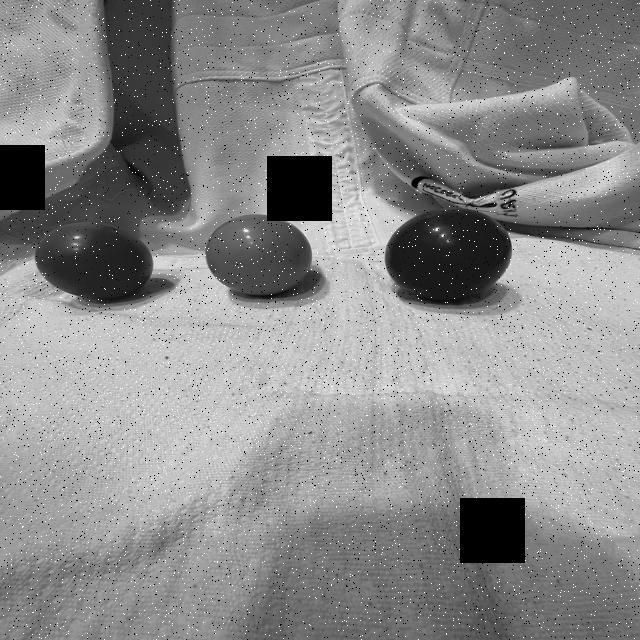ball: (378, 204, 516, 302), (32, 219, 157, 303), (202, 212, 314, 296)
